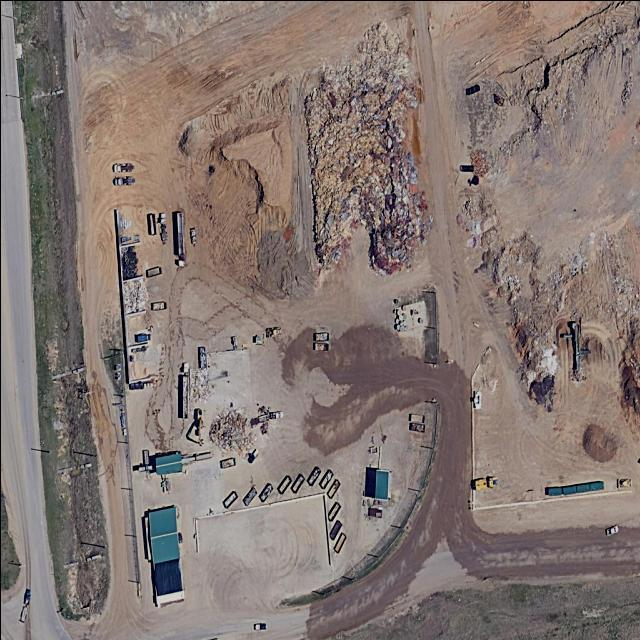dump_site: (296, 9, 432, 291), (612, 276, 640, 418), (207, 402, 254, 459)
